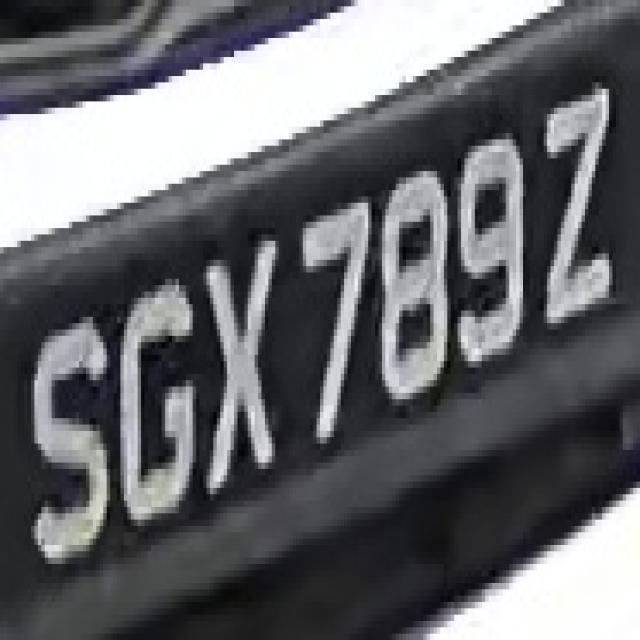7: (293, 177, 368, 450)
8: (364, 165, 464, 412)
9: (444, 120, 537, 387)
G: (104, 260, 206, 551)
S: (28, 285, 103, 564)
X: (193, 216, 282, 494)
Z: (526, 57, 626, 349)
